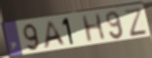1: (60, 16, 76, 47)
9: (21, 22, 42, 52), (105, 10, 125, 41)
A: (43, 20, 68, 50)
H: (80, 12, 108, 44)
Z: (122, 7, 149, 38)
